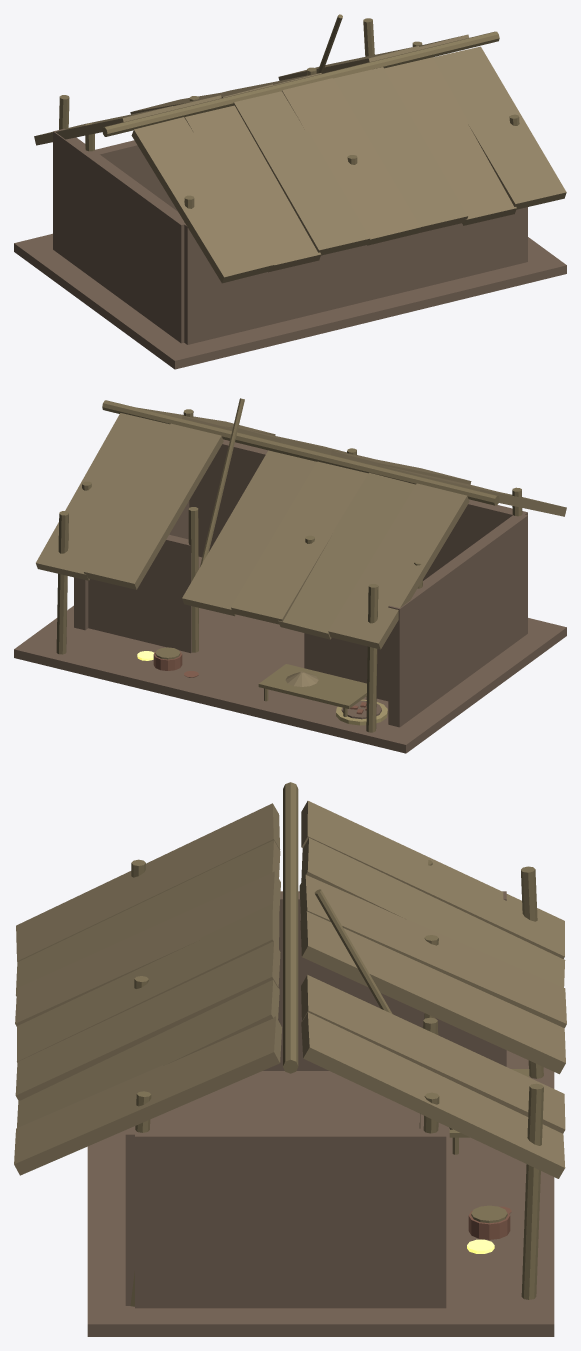
Rendered from nha_chi_dau.glb.
3 renders of one model, top to bottom at view 1: azimuth 30°, elevation 25°; view 2: azimuth 150°, elevation 25°; view 3: azimuth 270°, elevation 25°, orthographic. The views are drawn at different scales.
Visible parts, largest first — view 1: Nha_Chi_Dau; view 2: Nha_Chi_Dau; view 3: Nha_Chi_Dau.
Boxes of the visible parts, box(x1,y1,x2,y2) form: Nha_Chi_Dau: box(14, 14, 566, 369); Nha_Chi_Dau: box(14, 398, 566, 753); Nha_Chi_Dau: box(14, 782, 566, 1336).
Bounding box in the file's own units: 7.6 × 4.38 × 6.4.
